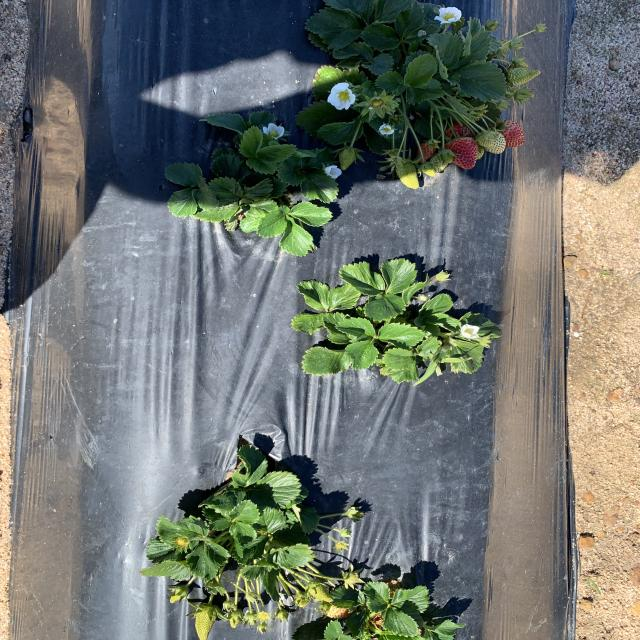unripe: (444, 136, 479, 170), (495, 120, 526, 148), (443, 122, 479, 140), (416, 138, 436, 162)
